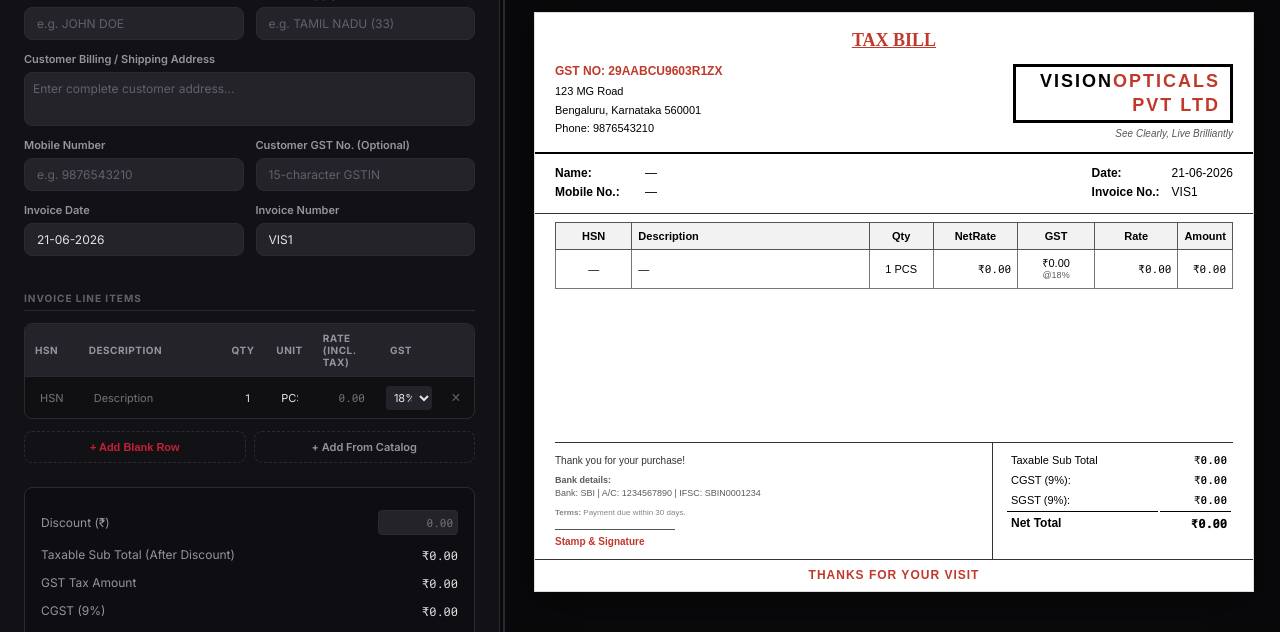
InvoiceEditor — Live Totals & Form › C6: After successful Generate, all inputs are disabled (locked)
Type "LOCKED USER" into the field with placeholder "e.g. JOHN DOE" at (134, 24), box [24,7,244,40]
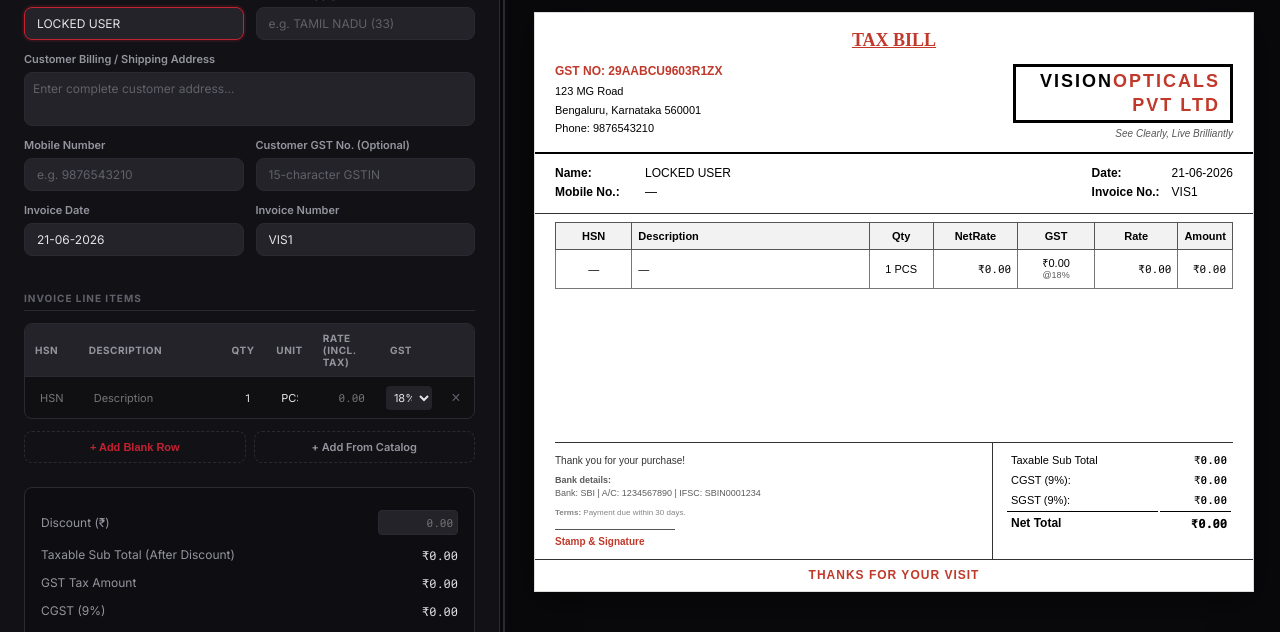
Fill one item
Type "Test Item" into the field with placeholder "Description" at (150, 398), box [85,384,216,412]
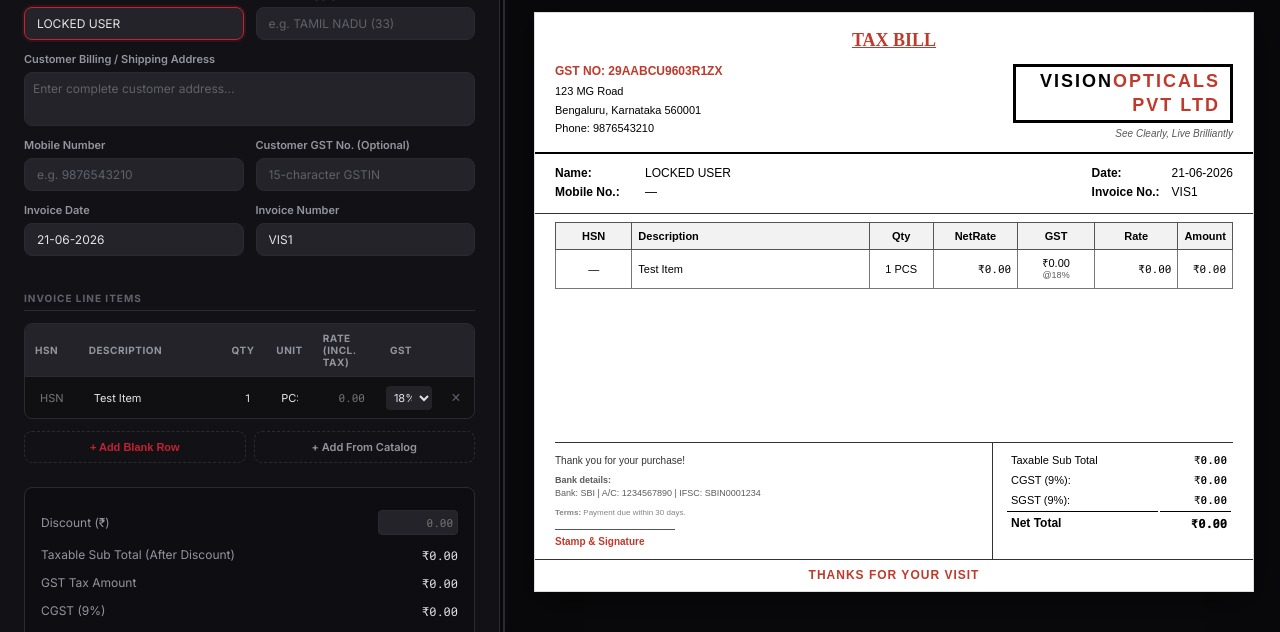
Type "100" into the number field with placeholder "0.00" below "Unit" at (346, 398), box [319,383,374,412]
(page scrolled)
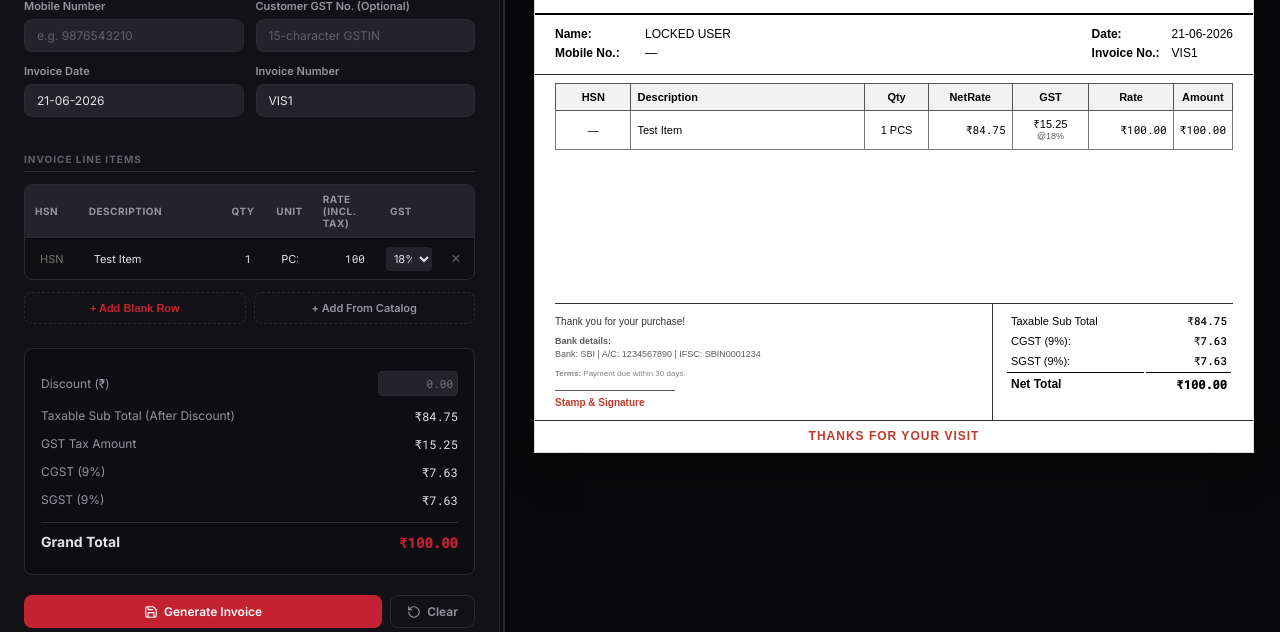
Click the button "Generate Invoice" at (203, 612), box [24,595,382,628]
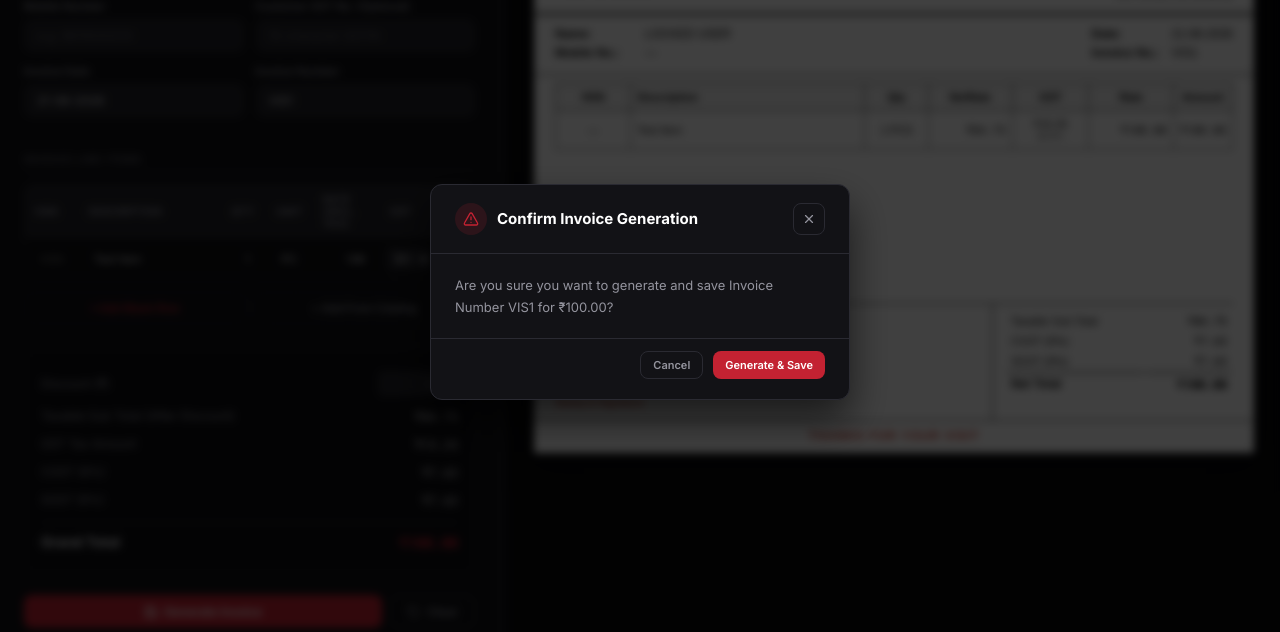
Result: the button "Generate & Save" is shown
Confirm inside the modal
Click the button "Generate & Save" at (769, 365), box [713,351,825,379]
(page scrolled)
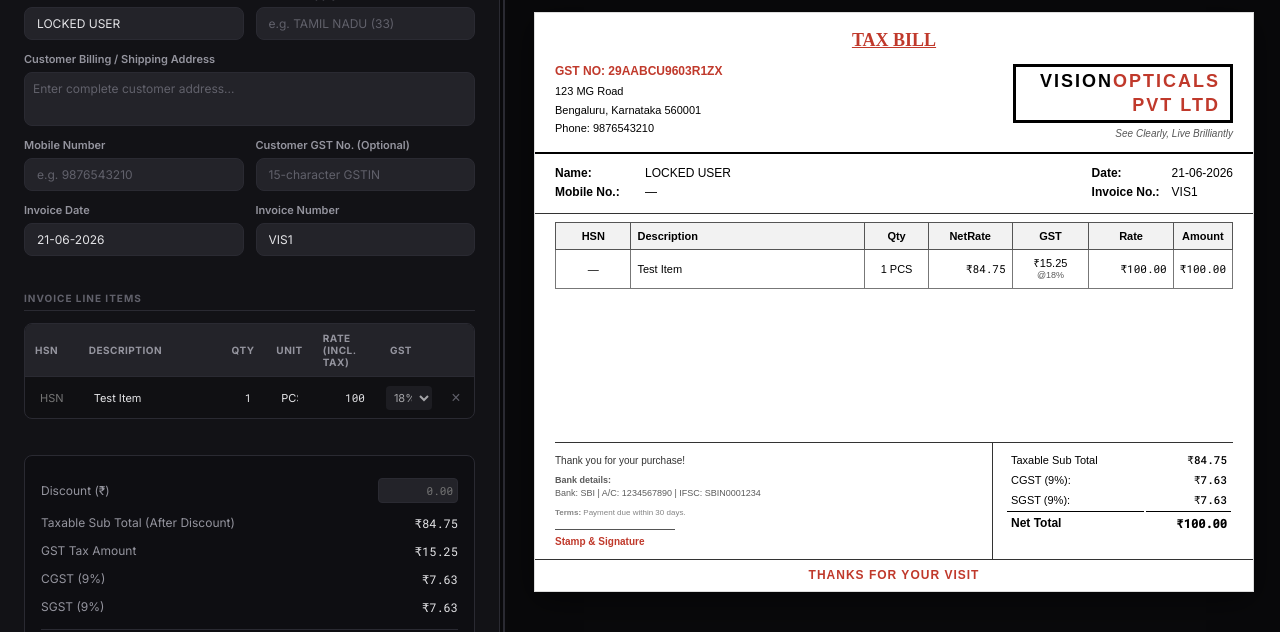
Result: the field with placeholder "e.g. JOHN DOE" below "Customer Name *" is disabled at [24,7,244,40]
